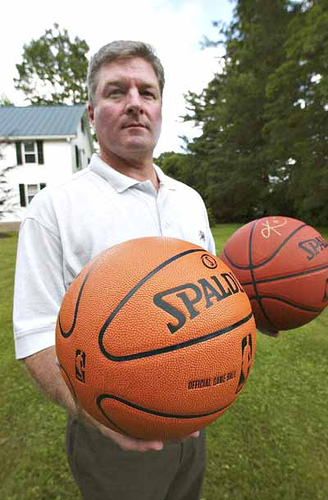basketball: (56, 237, 256, 441), (221, 215, 328, 331)
